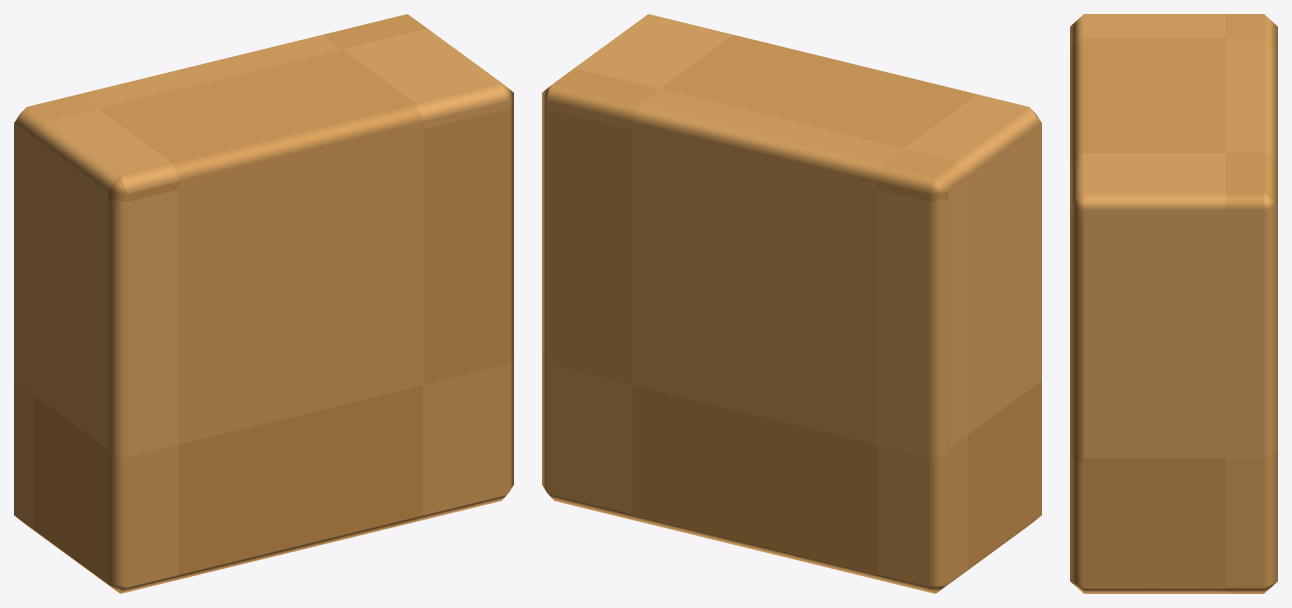
File: Peg-stop-1.glb
3 renders of one model, left to right at view 1: azimuth 30°, elevation 25°; view 2: azimuth 150°, elevation 25°; view 3: azimuth 270°, elevation 25°, orthographic. The views are drawn at different scales.
Visible parts, largest first — view 1: Peg-stop-1; view 2: Peg-stop-1; view 3: Peg-stop-1.
Part boxes in pixels (bbox=[...]): Peg-stop-1: bbox=[14, 14, 513, 593]; Peg-stop-1: bbox=[542, 14, 1041, 593]; Peg-stop-1: bbox=[1070, 14, 1277, 593].
Bounding box in the file's own units: 0.065 × 0.064 × 0.03.
1 material, 1 textured.
